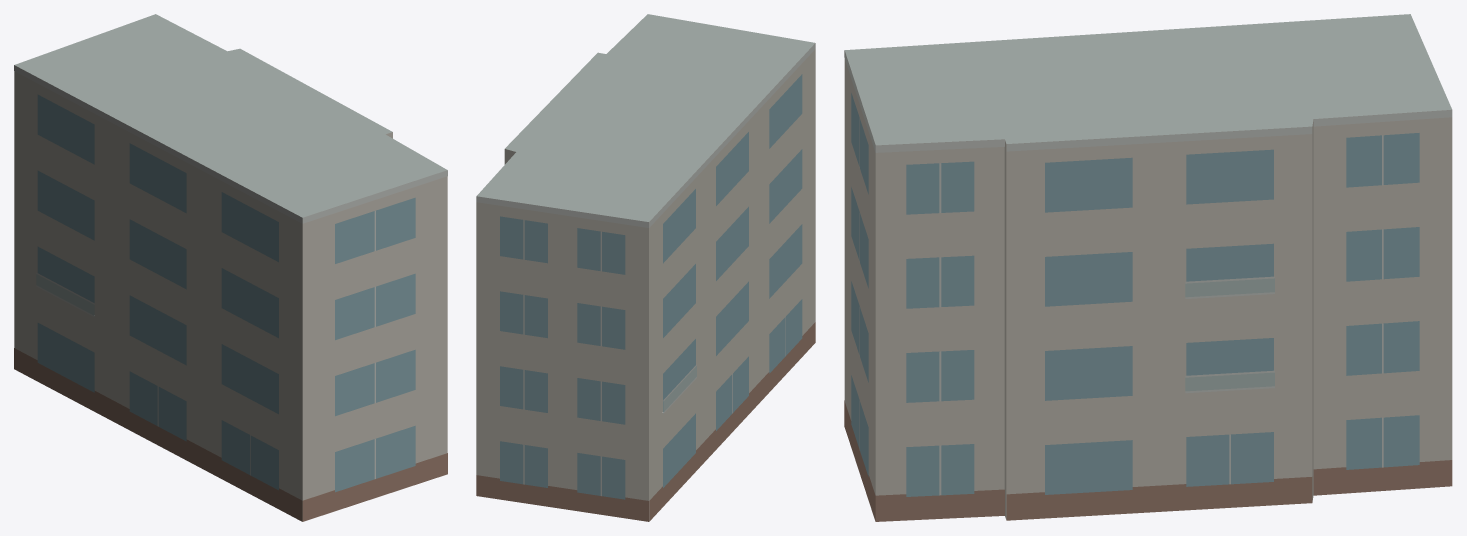
File: survey-upis-32705924.glb
3 views of the same model, side by side, from view 1: azimuth 30°, elevation 25°; view 2: azimuth 150°, elevation 25°; view 3: azimuth 270°, elevation 25° (orthographic). The views are drawn at different scales.
Parts seen in each view (by area): view 1: survey-upis-32705924.tmp; view 2: survey-upis-32705924.tmp; view 3: survey-upis-32705924.tmp.
Part boxes in pixels (<box>): survey-upis-32705924.tmp: <box>14,14,447,521</box>; survey-upis-32705924.tmp: <box>476,14,815,521</box>; survey-upis-32705924.tmp: <box>844,14,1452,521</box>.
Bounding box in the file's own units: 9.14 × 12.2 × 17.86.
